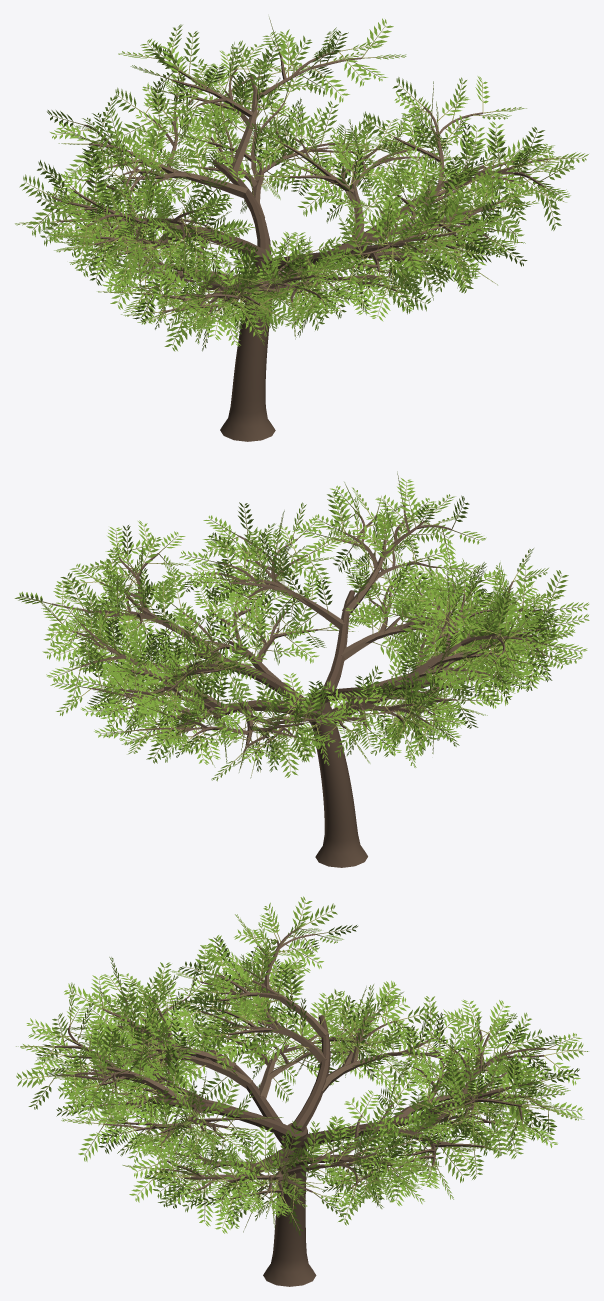
3 renders of one model, top to bottom at view 1: azimuth 30°, elevation 25°; view 2: azimuth 150°, elevation 25°; view 3: azimuth 270°, elevation 25°, orthographic. The views are drawn at different scales.
Visible parts, largest first — view 1: body; view 2: body; view 3: body.
Boxes of the visible parts, <box> form: body: <box>15,17,588,441</box>; body: <box>14,471,589,867</box>; body: <box>16,896,588,1286</box>.
Bounding box in the file's own units: 11.45 × 6.44 × 11.37.
1 material, 1 textured.
